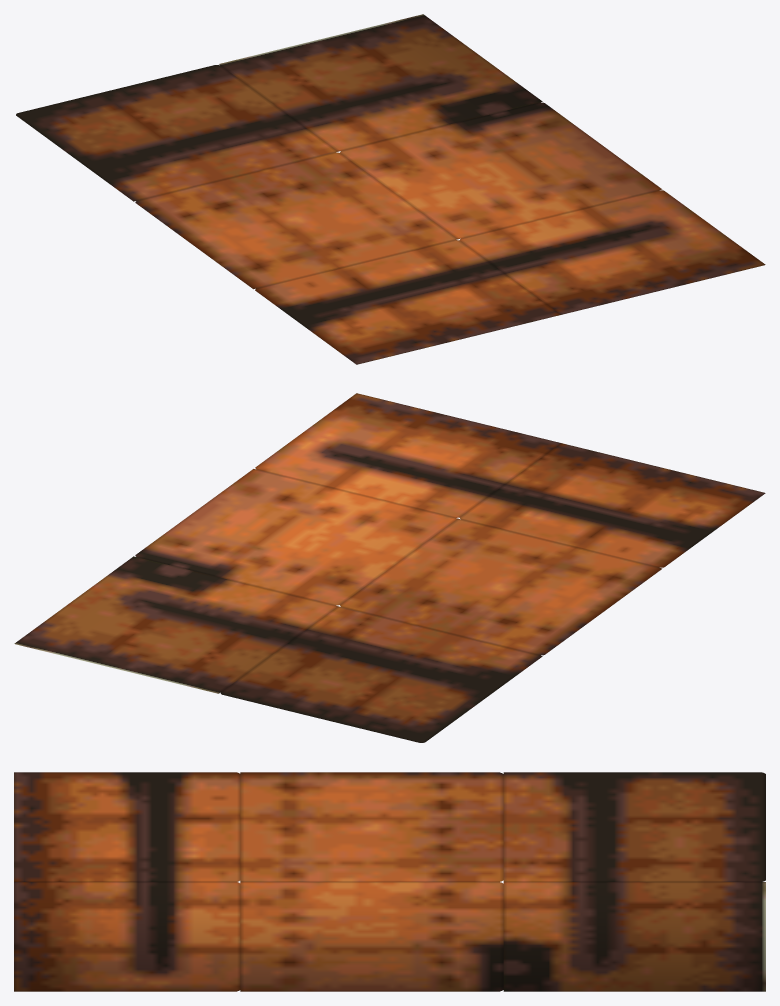
3 views of the same model, one above another, from view 1: azimuth 30°, elevation 25°; view 2: azimuth 150°, elevation 25°; view 3: azimuth 270°, elevation 25° (orthographic). The views are drawn at different scales.
Parts seen in each view (by area): view 1: T1L6M004_8; view 2: T1L6M004_8; view 3: T1L6M004_8.
Part boxes in pixels (left/top/right/bottom): T1L6M004_8: left=16, top=14, right=765, bottom=364; T1L6M004_8: left=14, top=393, right=765, bottom=742; T1L6M004_8: left=14, top=772, right=765, bottom=991.
Bounding box in the file's own units: 1.94 × 0 × 2.81.
